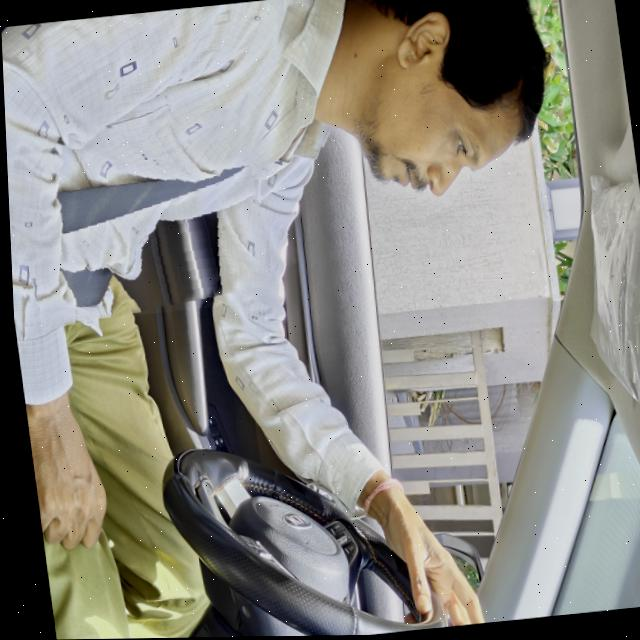seatbelt: (4, 111, 270, 325)
